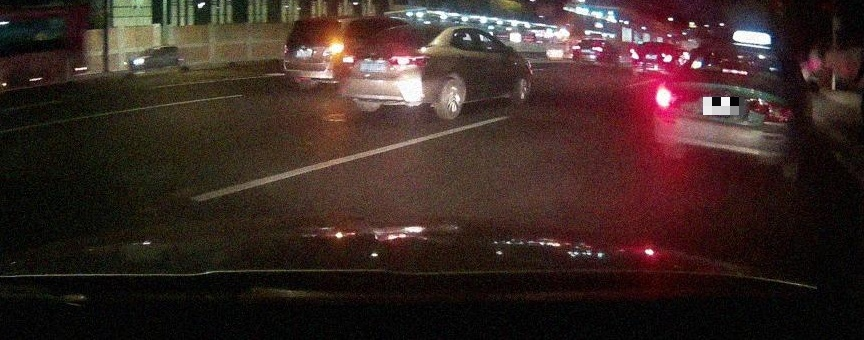L_light: (655, 82, 699, 107), (342, 55, 357, 64)
R_light: (745, 96, 793, 122), (388, 54, 429, 66)
T_light: (722, 67, 749, 77), (405, 26, 422, 31)
night-left: (650, 40, 795, 180)
night-no: (337, 24, 450, 118)
plate_1: (703, 97, 744, 115)
